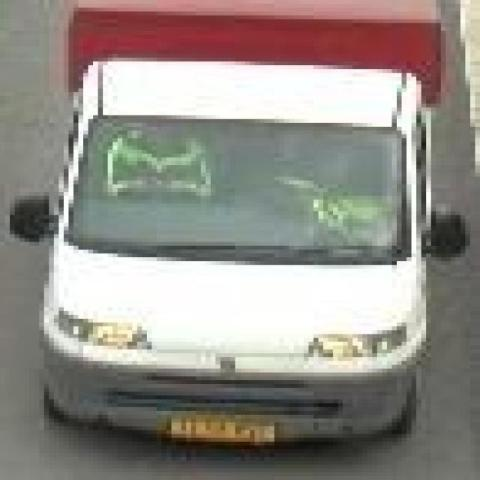van: (39, 61, 426, 446)
